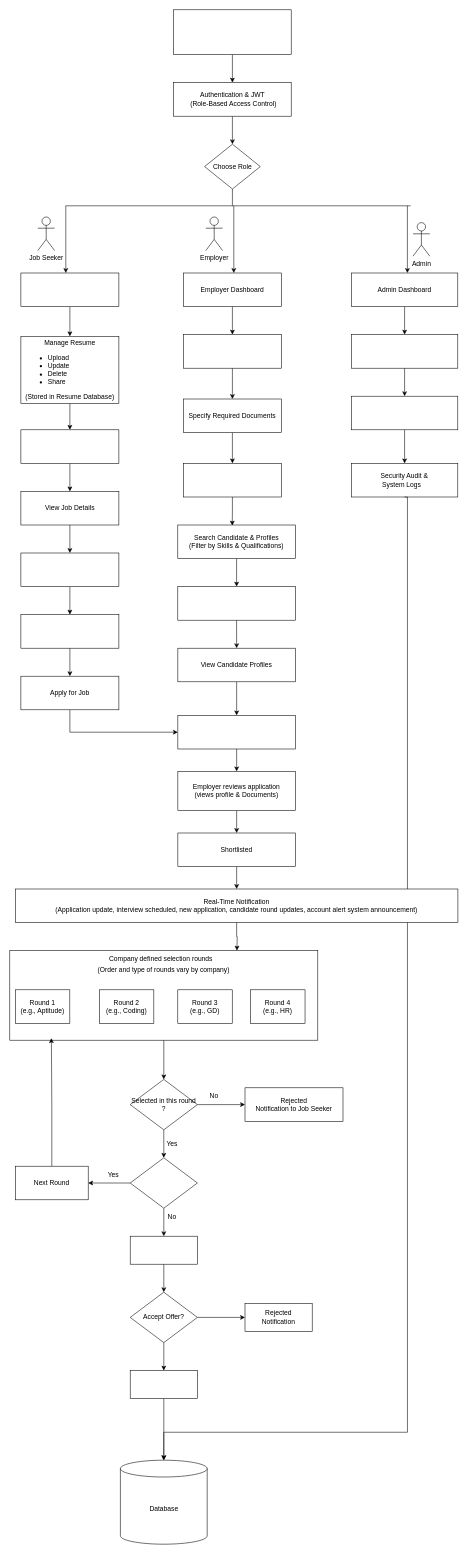
This 468x1554 diagram has some shape labels left out. Each missing label, with the centre of its shape:
Application Submitted: (x=236, y=732)
Content Moderation (Flag / Remove Jobs): (x=404, y=413)
Create & Post Job Listing (Title, Description, Details): (x=232, y=351)
Create / Edit Profile (Skills, Education, Experience): (x=69, y=289)
Hired: (x=163, y=1384)
Manage Job Listings (Edit, Update, or Delete): (x=232, y=480)
More Rounds?: (x=163, y=1182)
Offer Letter: (x=163, y=1250)
Search Jobs / Recommendations (Filter by Title, Location): (x=69, y=446)
Upload Resume + Required Documents: (x=69, y=631)
User Management (Approve / Block): (x=404, y=351)
User Register / Login Job Seeker / Employer / Admin: (x=232, y=32)
View Applications: (x=236, y=603)
View Required Documents: (x=69, y=569)
